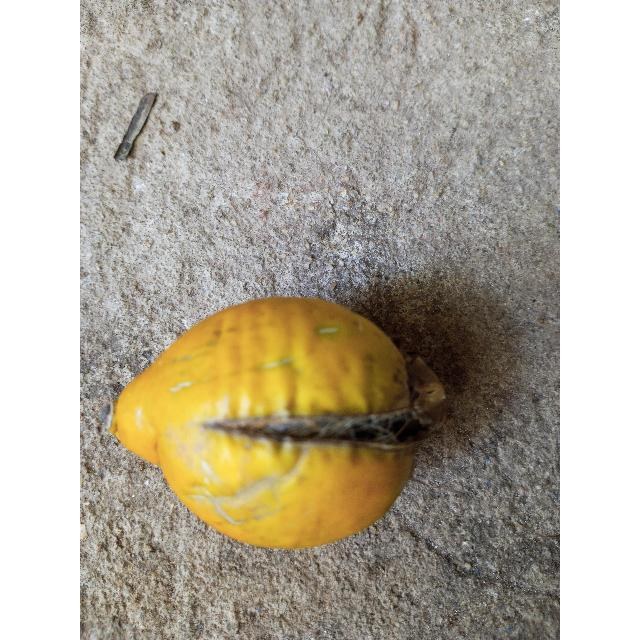damaged: (109, 297, 443, 552)
